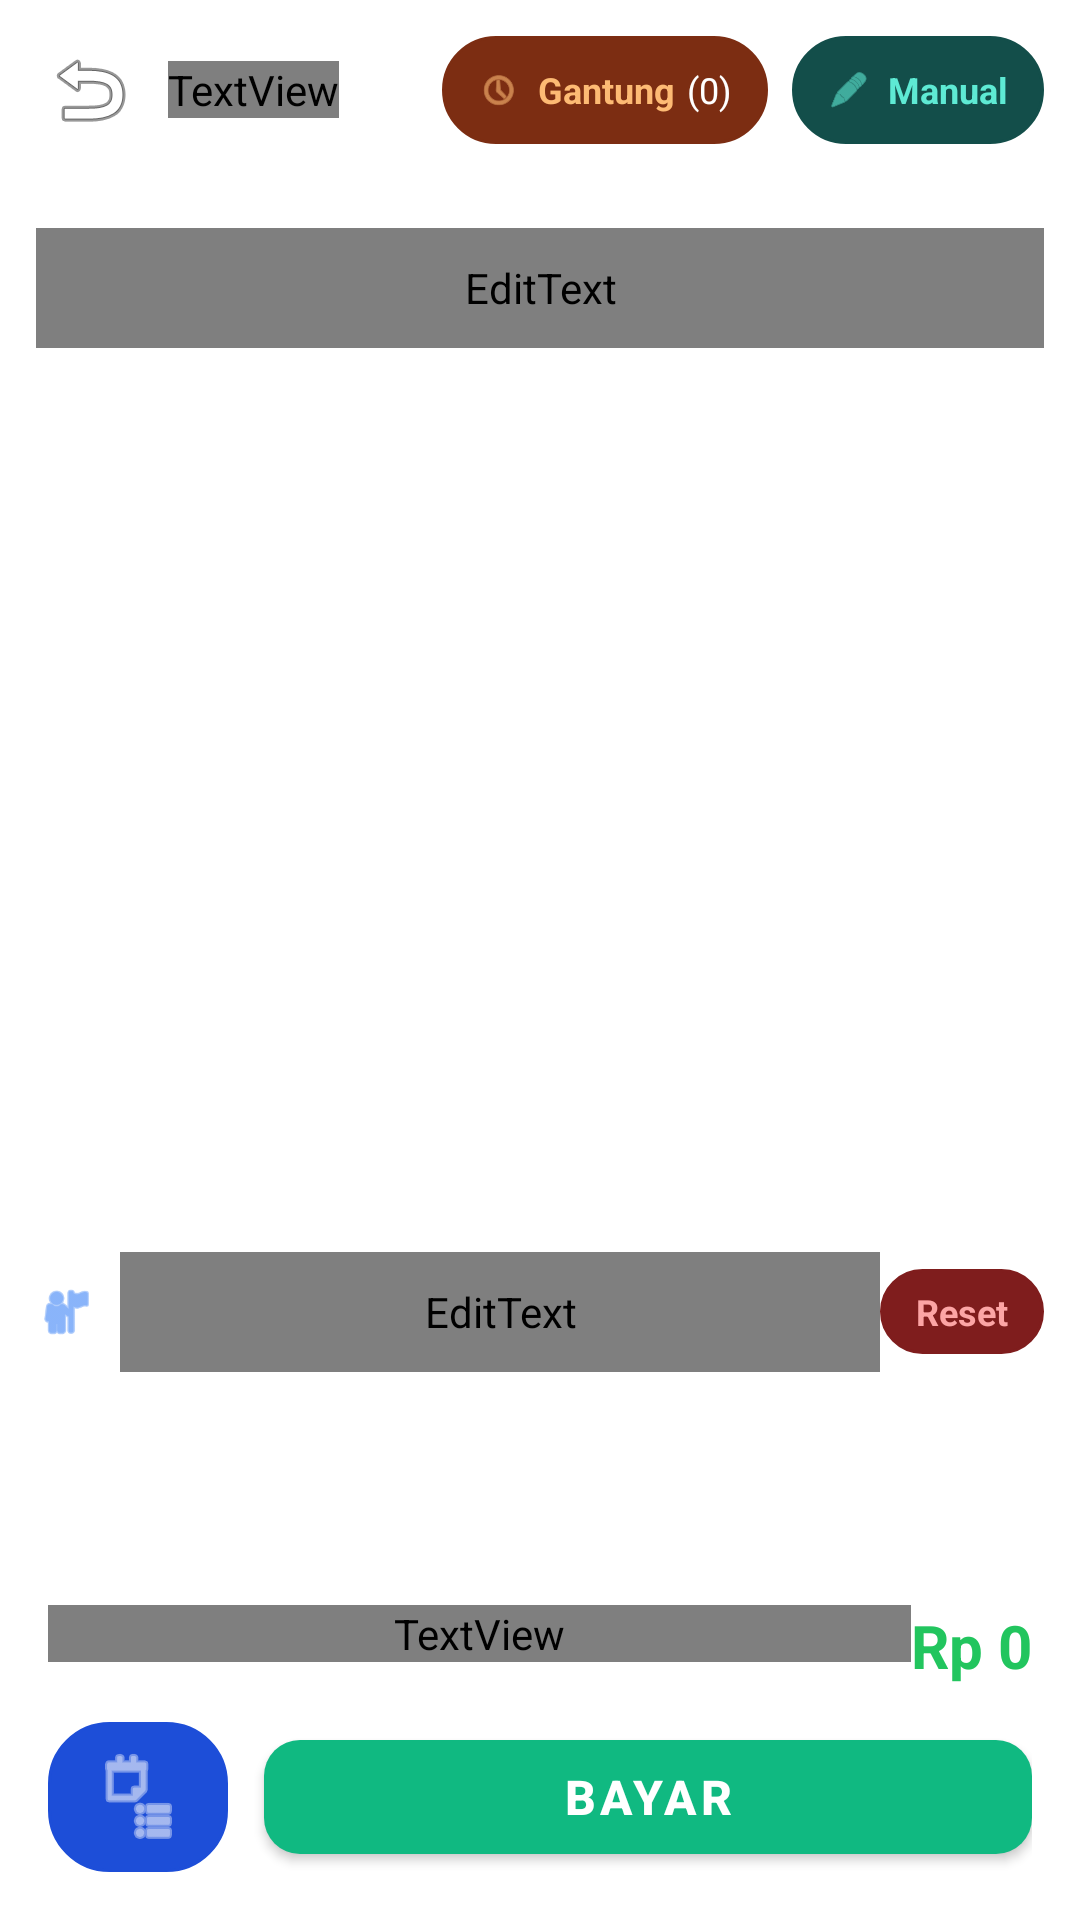

Icons on this 1080px x 1920px Android screen, each with the point to tap as (x,y):
agenda: (138,1797)
myplaces: (66,1312)
recent history: (499,90)
revert: (91,90)
